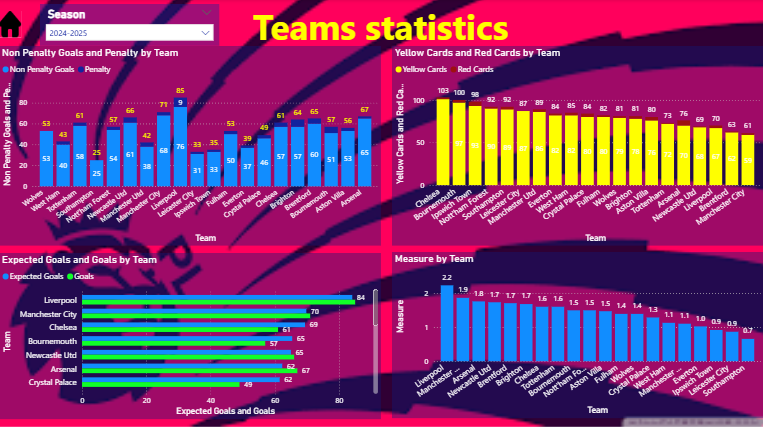

The page's visual inventory and layout, read from the dashboard file:
{"tool":"powerbi","page":{"name":"Team Statistics","canvas":[1280,720],"ordinal":1},"visuals":[{"type":"textbox","box":[357.1,0,564.5,300],"z":0},{"type":"columnChart","fields":{"Category":["player_stats_final.Squad"],"Y":["Sum(player_stats_final.Performance_G-PK)","Sum(player_stats_final.Performance_PK)"]},"box":[0,79.2,639.4,334.1],"z":1000},{"type":"columnChart","fields":{"Category":["player_stats_final.Squad"],"Y":["Sum(player_stats_final.Performance_CrdY)","Sum(player_stats_final.Performance_CrdR)"]},"box":[658.1,79.2,622.1,334.1],"z":2000},{"type":"clusteredBarChart","fields":{"Category":["player_stats_final.Squad"],"Y":["Sum(player_stats_final.Expected_xG)","Sum(player_stats_final.Performance_Gls)"]},"box":[0,424.8,639.4,277.9],"z":3000},{"type":"clusteredColumnChart","fields":{"Category":["player_stats_final.Squad"],"Y":["player_stats_final.Measure"]},"box":[658.1,424.2,621.9,277.7],"z":4000},{"type":"slicer","fields":{"Values":["player_stats_final.Season"]},"box":[68.6,8.4,299.5,70.3],"z":5000},{"type":"actionButton","box":[0,20,36.8,43.5],"z":6000}]}

Visuals, with their boxes in screenshot pixels (x1, y1, x2, y2), scaled from the page's 1280x720 canvas onto the 763x429 screenshot:
textbox: <bbox>213, 0, 549, 179</bbox>
columnChart - player_stats_final.Squad x Sum(player_stats_final.Performance_G-PK): <bbox>0, 47, 381, 246</bbox>
columnChart - player_stats_final.Squad x Sum(player_stats_final.Performance_CrdY): <bbox>392, 47, 762, 246</bbox>
clusteredBarChart - player_stats_final.Squad x Sum(player_stats_final.Expected_xG): <bbox>0, 253, 381, 419</bbox>
clusteredColumnChart - player_stats_final.Squad x player_stats_final.Measure: <bbox>392, 253, 762, 418</bbox>
slicer - player_stats_final.Season: <bbox>41, 5, 219, 47</bbox>
actionButton: <bbox>0, 12, 22, 38</bbox>
